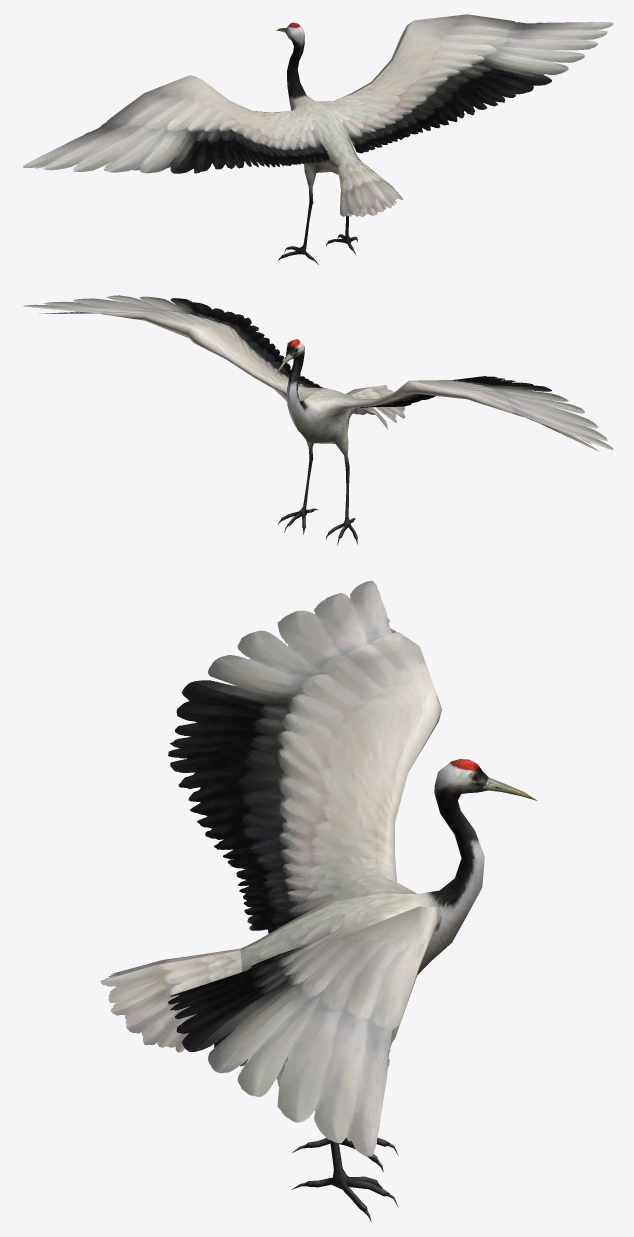
Rendered from crane.FBX.
The picture shows the model from 3 angles, top to bottom: view 1: azimuth 30°, elevation 25°; view 2: azimuth 150°, elevation 25°; view 3: azimuth 270°, elevation 25°; orthographic projection. The views are drawn at different scales.
Visible parts, largest first — view 1: 鹤; view 2: 鹤; view 3: 鹤.
Boxes of the visible parts, x1,y1,x2,y2 form: 鹤: (22,14,613,264); 鹤: (23,295,613,545); 鹤: (100,580,537,1221).
Bounding box in the file's own units: 2.3 × 0.7721 × 0.7281.
1 material, 1 textured.
